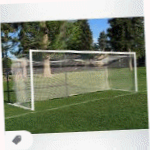goals: (6, 48, 139, 112)
